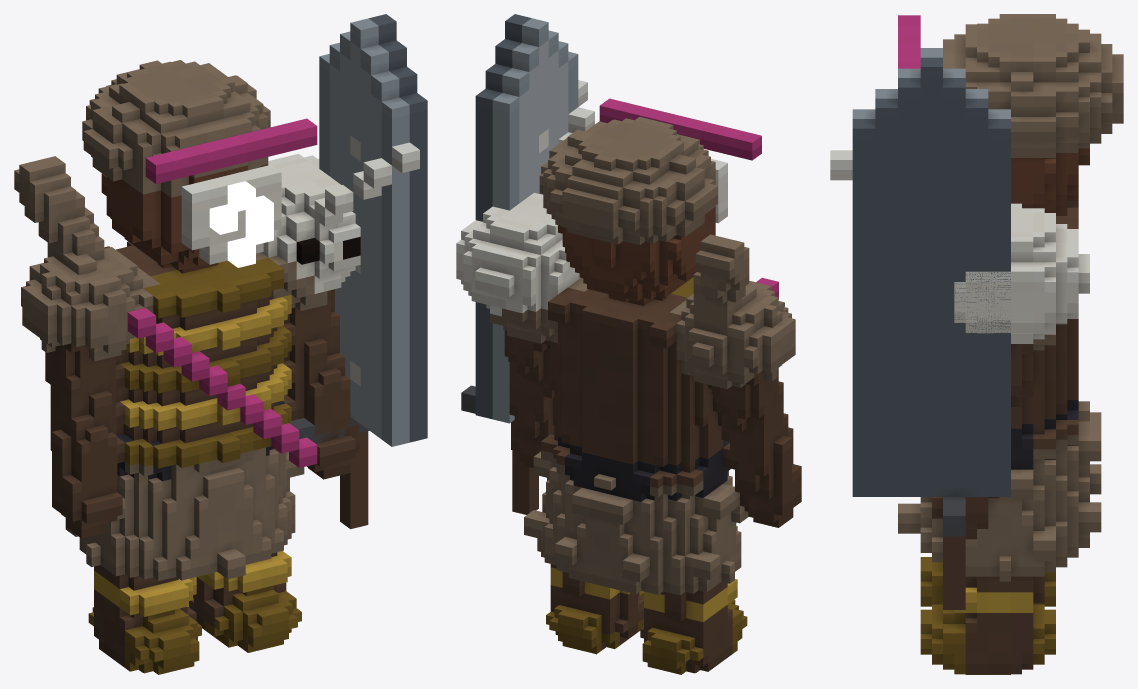
Rendered from u_trappeur__tidiane.glb.
3 views of the same model, side by side, from view 1: azimuth 30°, elevation 25°; view 2: azimuth 150°, elevation 25°; view 3: azimuth 270°, elevation 25° (orthographic). The views are drawn at different scales.
Visible parts, largest first — view 1: trappeur_body, trappeur_weapon, trappeur_glow; view 2: trappeur_body, trappeur_weapon; view 3: trappeur_body, trappeur_weapon.
Part boxes in pixels (left/top/right/bottom): trappeur_body: left=14, top=60, right=419, bottom=674; trappeur_weapon: left=291, top=14, right=427, bottom=529; trappeur_glow: left=209, top=181, right=273, bottom=267; trappeur_body: left=456, top=80, right=801, bottom=674; trappeur_weapon: left=461, top=14, right=578, bottom=514; trappeur_body: left=830, top=14, right=1123, bottom=674; trappeur_weapon: left=852, top=48, right=1010, bottom=609.
Size of the model in its own units: 1 by 1.63 by 0.65.
